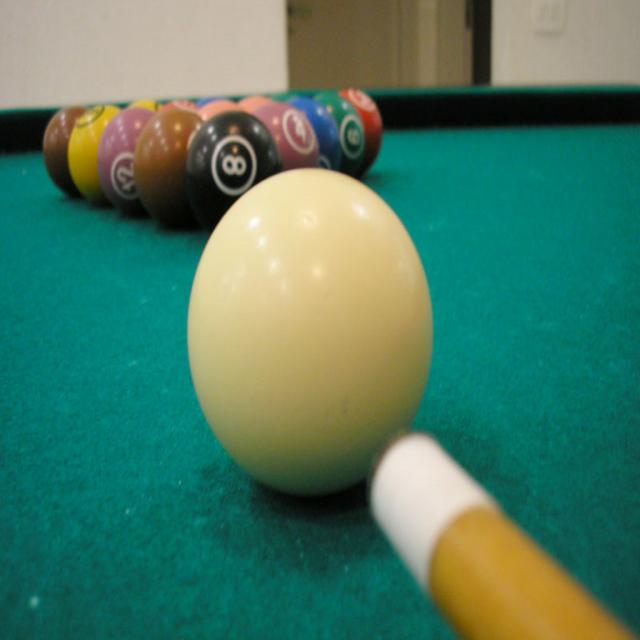Ball: (44, 89, 433, 494)
Billiard table: (0, 85, 640, 640)
